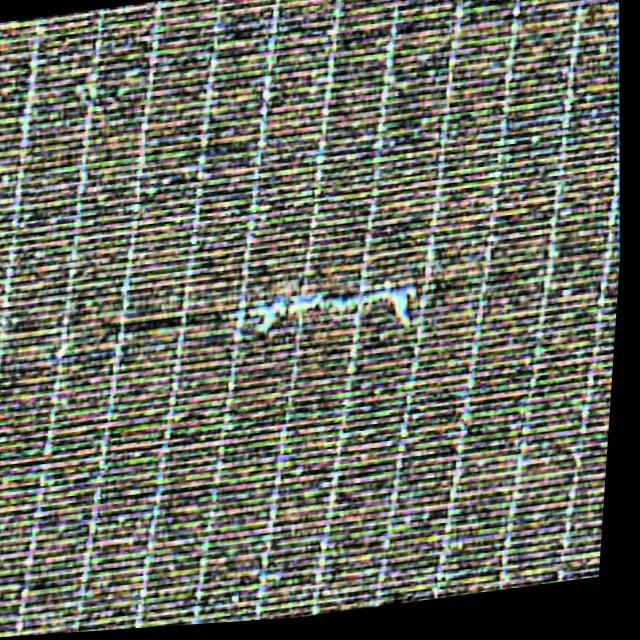Stitch: (232, 233, 442, 360)
